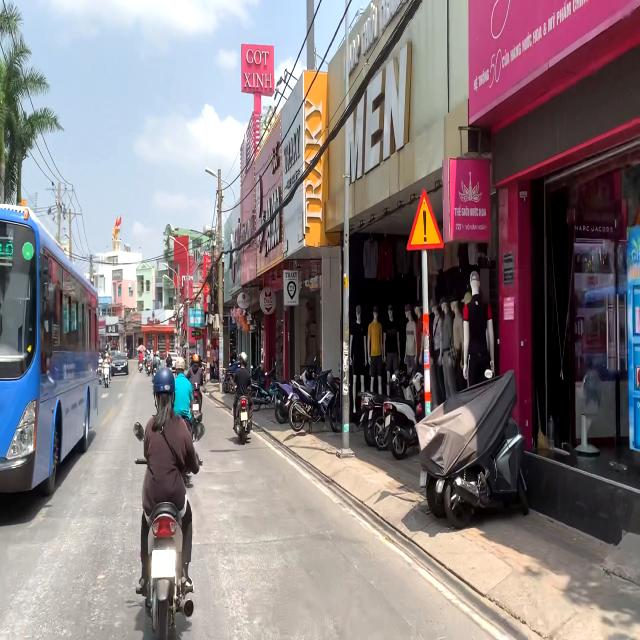W.233: (406, 187, 444, 252)
